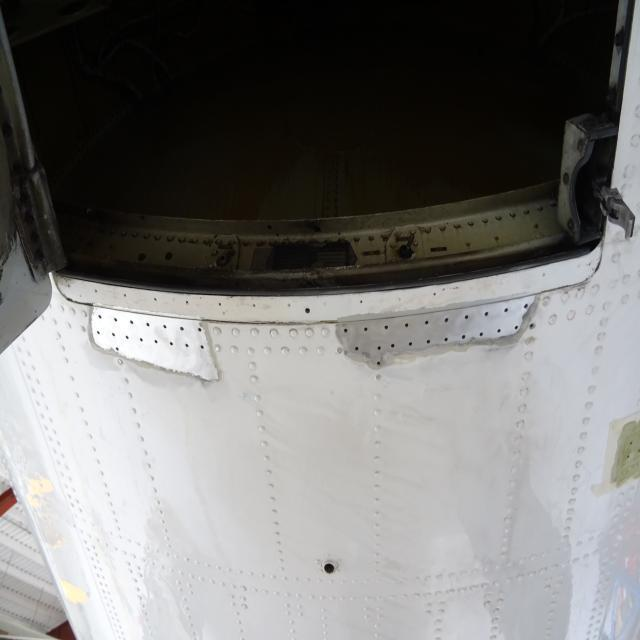Missing Fastener: (295, 304, 313, 324), (322, 562, 336, 576), (479, 306, 491, 318), (460, 310, 470, 324), (526, 317, 536, 331), (421, 316, 432, 328), (477, 327, 488, 339), (401, 321, 414, 331), (351, 344, 363, 354), (386, 340, 396, 352), (441, 312, 451, 324), (501, 302, 511, 314), (492, 326, 504, 336), (522, 298, 530, 312), (341, 326, 352, 336), (372, 358, 383, 368), (423, 336, 432, 348), (360, 324, 370, 334), (406, 338, 416, 348), (459, 332, 469, 342), (510, 322, 520, 332), (383, 321, 391, 333), (442, 334, 451, 344), (144, 320, 152, 328), (112, 316, 120, 324), (94, 312, 102, 320), (376, 342, 382, 352), (182, 343, 190, 349), (124, 333, 130, 341), (196, 327, 204, 333), (162, 324, 170, 330), (168, 341, 176, 347), (200, 343, 206, 351), (111, 331, 117, 337), (96, 328, 100, 337), (129, 319, 135, 325), (154, 336, 158, 344), (180, 324, 184, 332), (116, 346, 120, 352), (140, 338, 144, 342)
